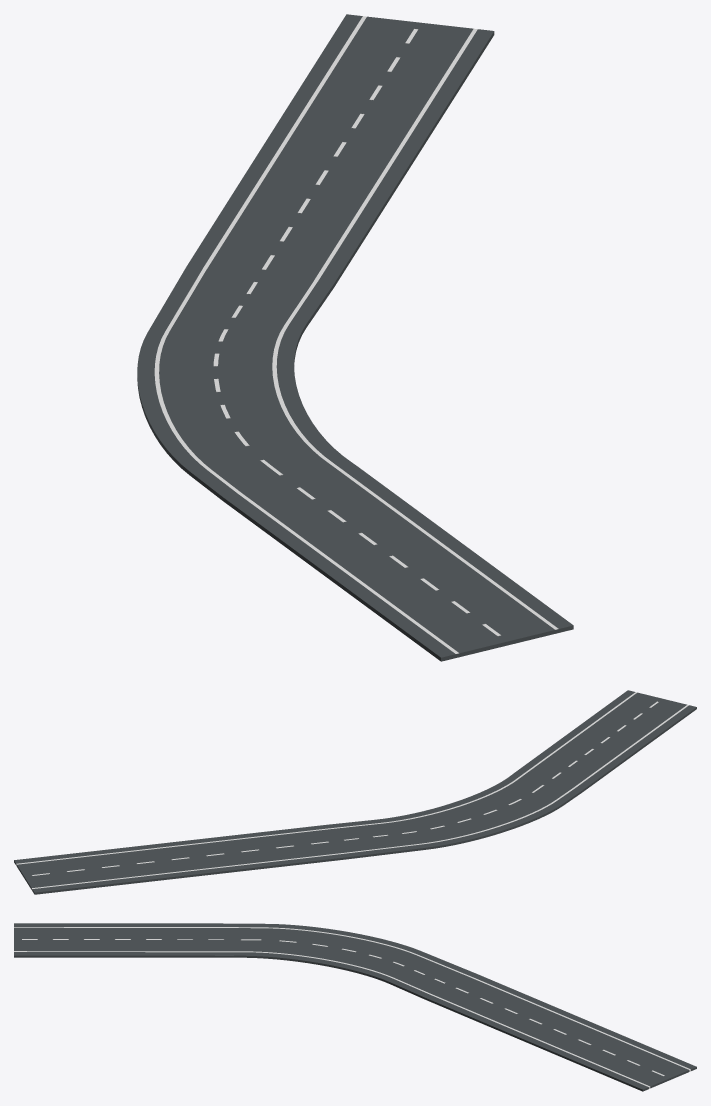
The model's file is Streets.gltf.
3 renders of one model, top to bottom at view 1: azimuth 30°, elevation 25°; view 2: azimuth 150°, elevation 25°; view 3: azimuth 270°, elevation 25°, orthographic. The views are drawn at different scales.
Parts seen in each view (by area): view 1: Right, Turn, Straight; view 2: Right, Turn, Straight; view 3: Right, Turn, Straight.
Part boxes in pixels (left/top/right/bottom): Right: left=186, top=14, right=494, bottom=286; Turn: left=137, top=266, right=355, bottom=500; Straight: left=223, top=465, right=573, bottom=661; Right: left=14, top=825, right=345, bottom=894; Turn: left=325, top=773, right=582, bottom=859; Straight: left=514, top=690, right=696, bottom=791; Right: left=424, top=974, right=696, bottom=1091; Turn: left=232, top=923, right=477, bottom=998; Straight: left=14, top=923, right=232, bottom=957.
Size of the model in its own units: 36.02 by 0.2 by 62.48.
Materials: 3 (1 with a texture image).
